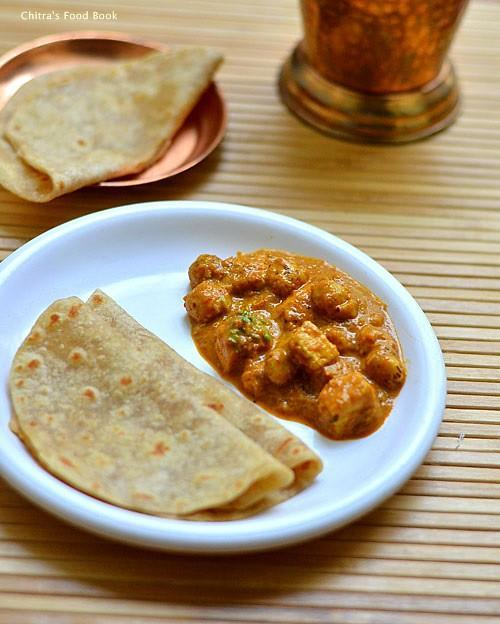paneer: (215, 275, 372, 387)
